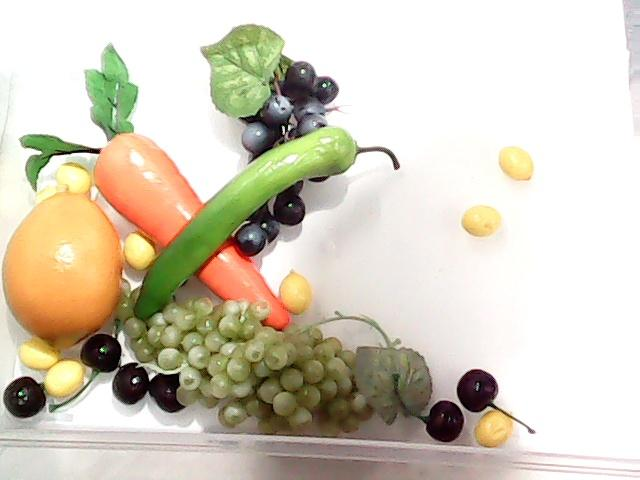carrot: (21, 38, 291, 330)
grape: (126, 302, 432, 442), (200, 24, 340, 256)
lemon: (0, 170, 128, 345)
pepper: (133, 123, 371, 329)
